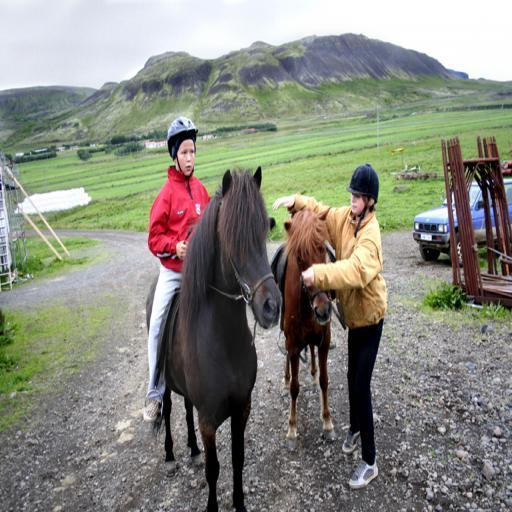horse: (146, 164, 284, 511), (274, 200, 338, 454)
